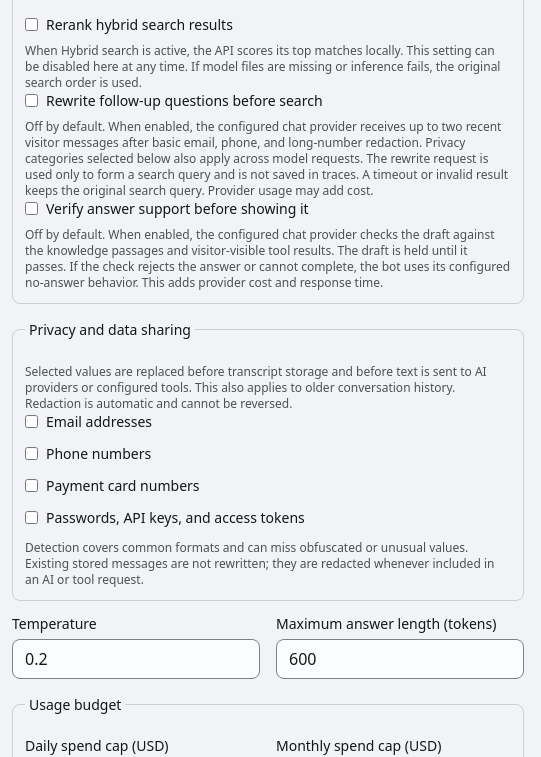
Test: BotBehaviorForm › saves the selected privacy redaction categories
(page scrolled)
Click the checkbox labelled "Email addresses" at (32, 422), box [25, 415, 38, 428]
(page scrolled)
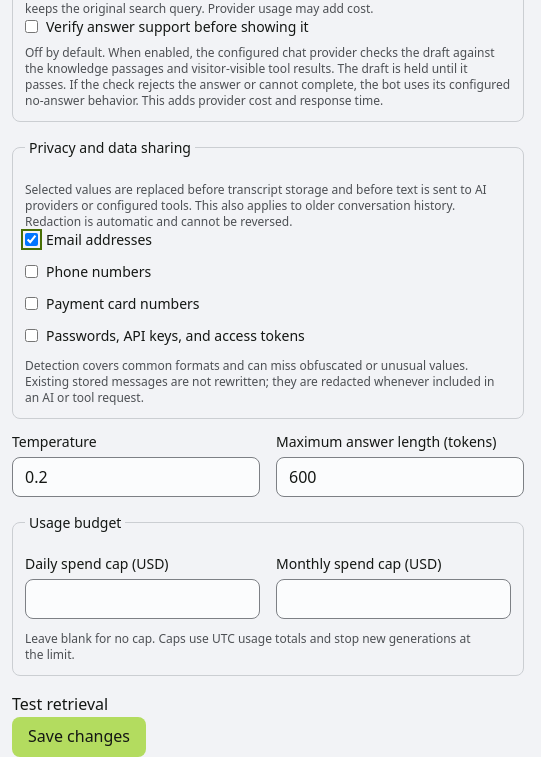
Click the button "Save changes" at (79, 737), box [12, 717, 146, 756]
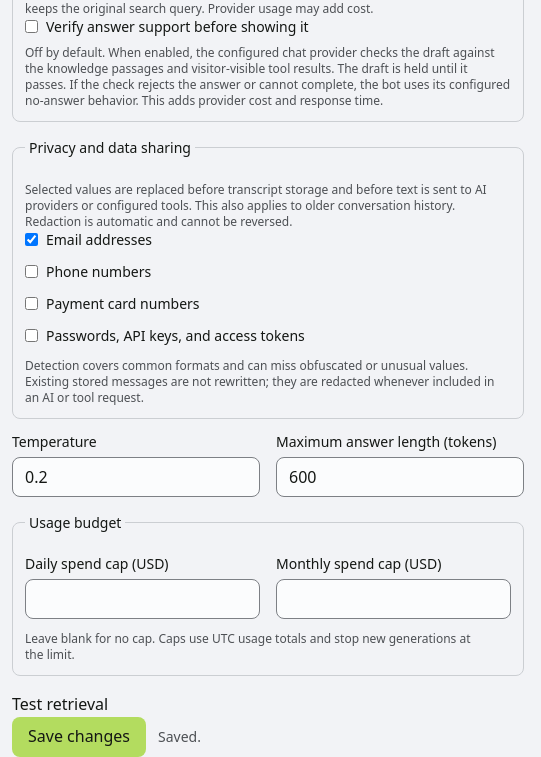
Now the text "Saved." is shown, box [158, 727, 201, 747]
